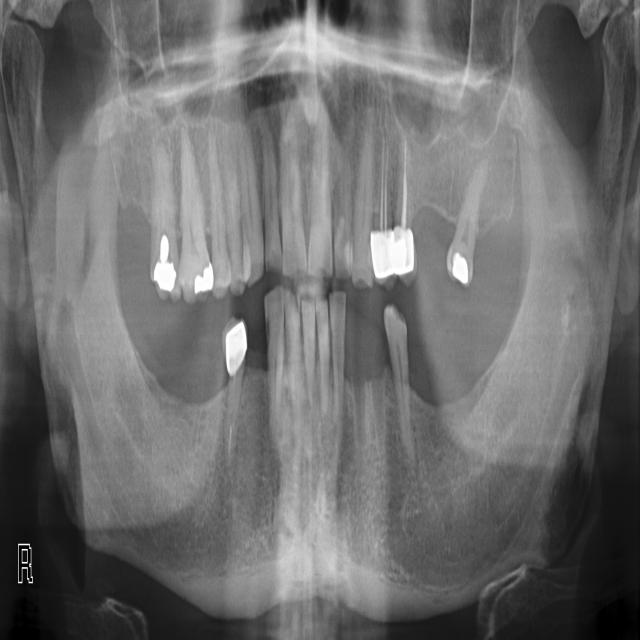tooth: (371, 136, 412, 285), (179, 126, 211, 299), (446, 165, 484, 283), (279, 111, 306, 276), (204, 134, 231, 297), (385, 302, 410, 453), (239, 130, 263, 283), (308, 121, 331, 276), (352, 130, 375, 284), (331, 137, 354, 278), (265, 287, 285, 410), (226, 157, 243, 294), (284, 288, 303, 407), (150, 221, 178, 299), (226, 319, 247, 406), (331, 289, 345, 418), (317, 292, 330, 415), (303, 292, 316, 404)
